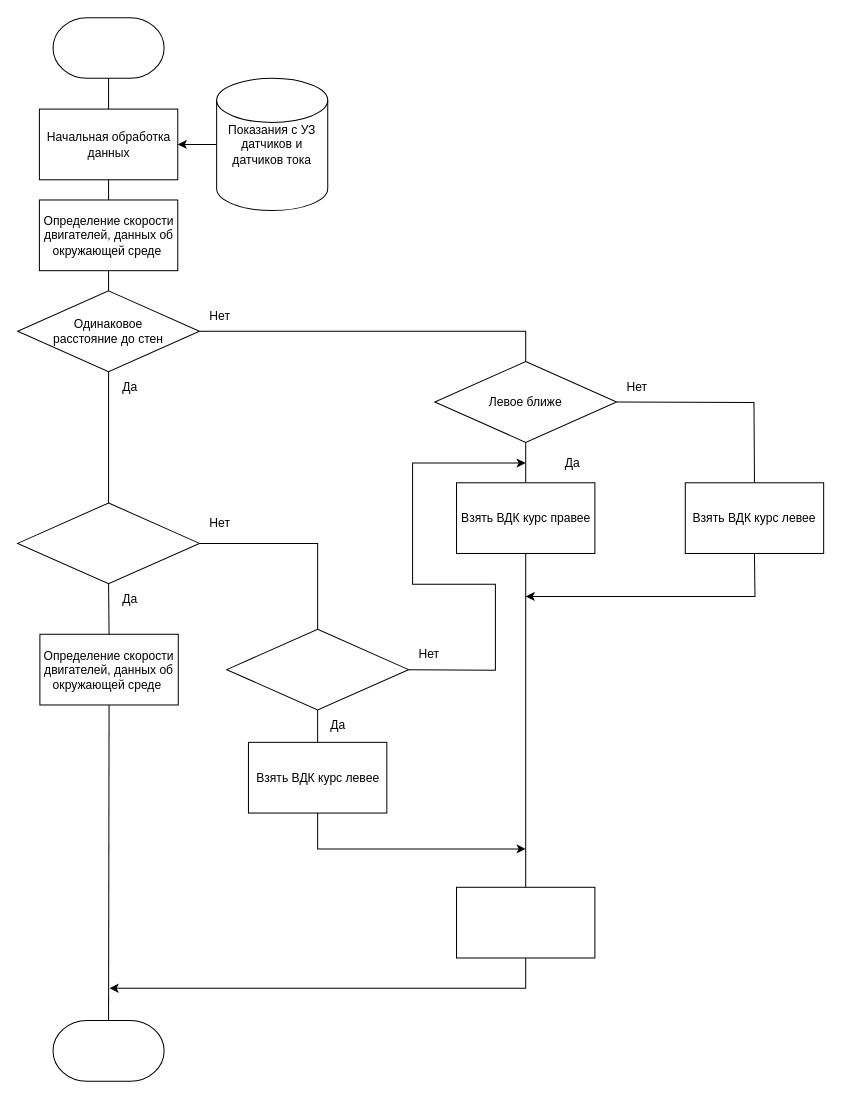
Some shapes in this 841 by 1099 pixel diagram are drawn without their labels. The shapes that lost their labels are listed below. From the top down, each one's box as (x1, y1, x2, y2) in pixels, then its label:
(52, 17, 164, 78): Начало Работы
(17, 502, 199, 584): Отсутствие прокрутки колёс
(226, 628, 409, 710): Левая часть проехала больше
(456, 886, 595, 958): Отрегулировать направление
(52, 1020, 164, 1081): Конец Работы
